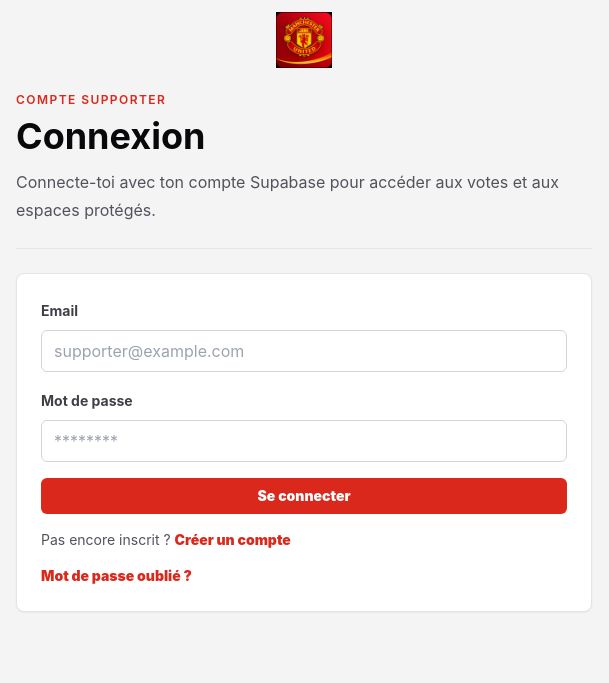
Test: auth forms › shows a readable login validation error for invalid email
The image size is (609, 683).
In the field labelled "Email": (304, 351) [41, 330, 567, 372], type "invalid-email"
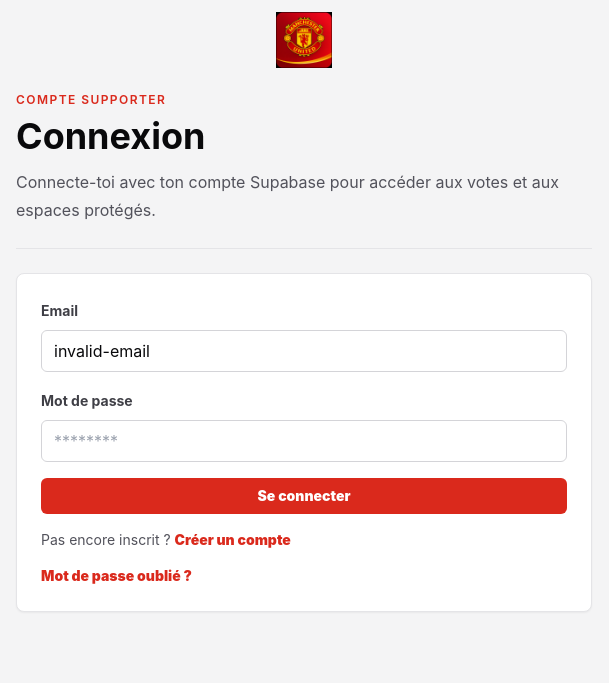
In the password field labelled "Mot de passe": (304, 441) [41, 420, 567, 462], type "Password123!"
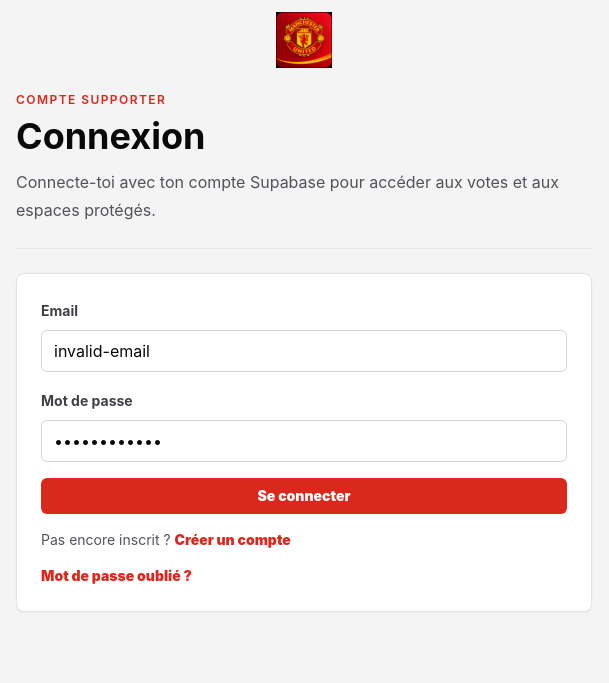
Click the button "Se connecter": click(304, 496) [41, 478, 567, 514]
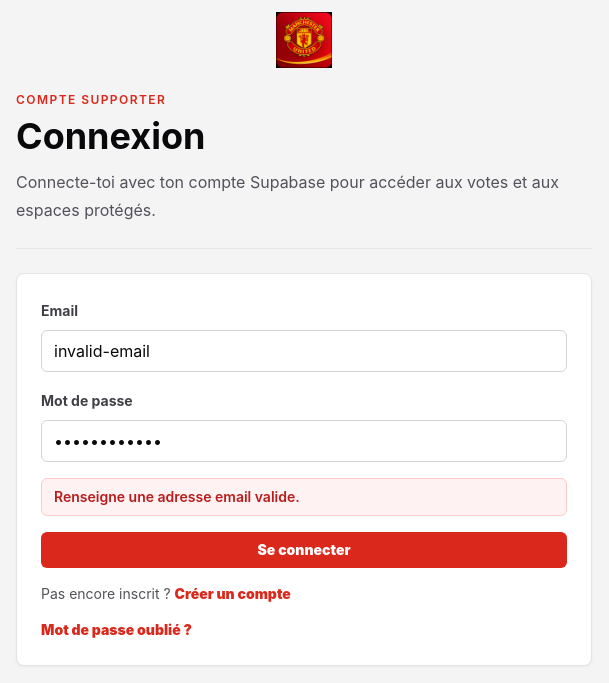
Now the text "Renseigne une adresse email valide." is shown, box [41, 478, 567, 516]
